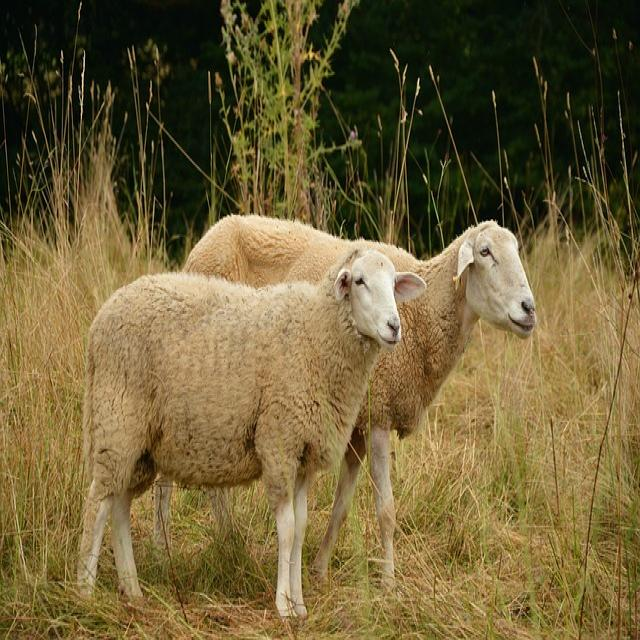goat: (79, 246, 425, 618), (315, 222, 536, 588), (185, 216, 351, 286)
